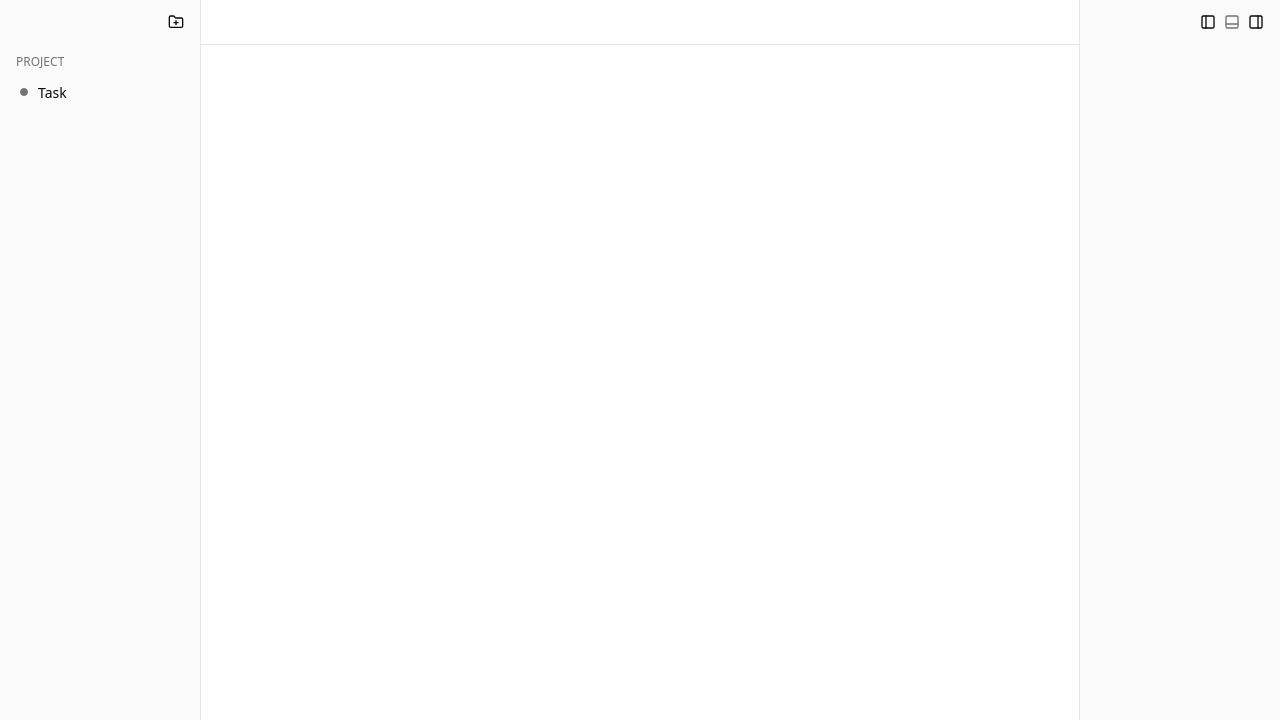
Test: A turn › reports that the agent exited
Click the button with class "select".
click(100, 92)  # box [8,76,192,108]
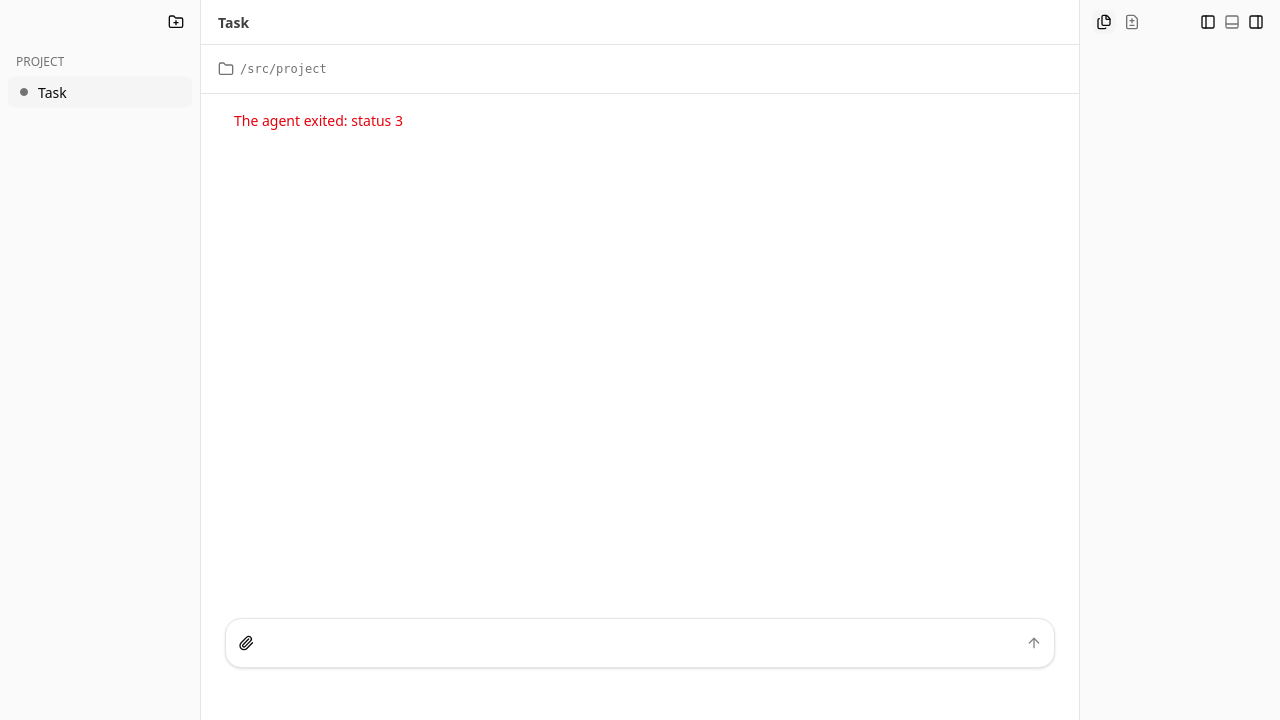
Expected: the text "The agent exited: status 3" is shown, [234,111,403,130]
